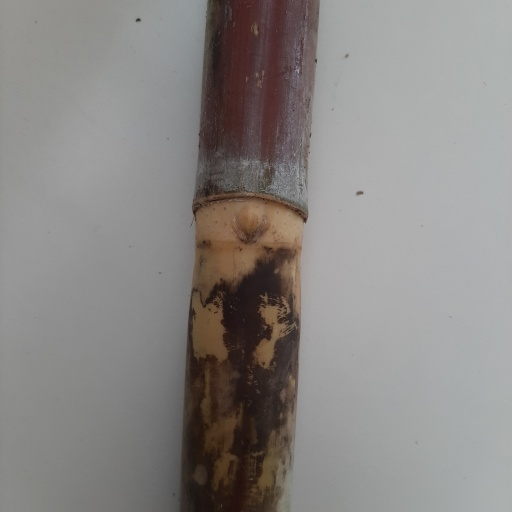Bud: (232, 201, 270, 246)
